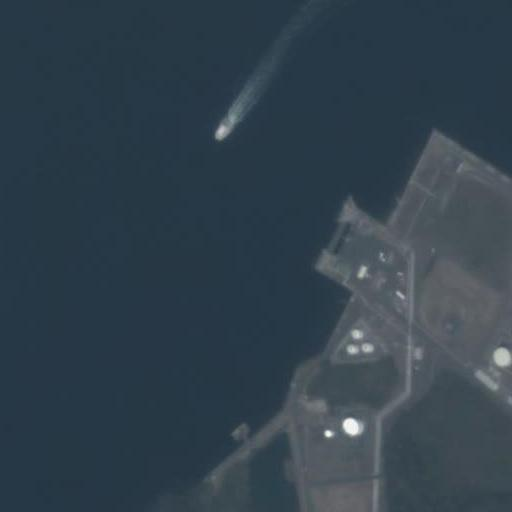person: (213, 124, 229, 141)
